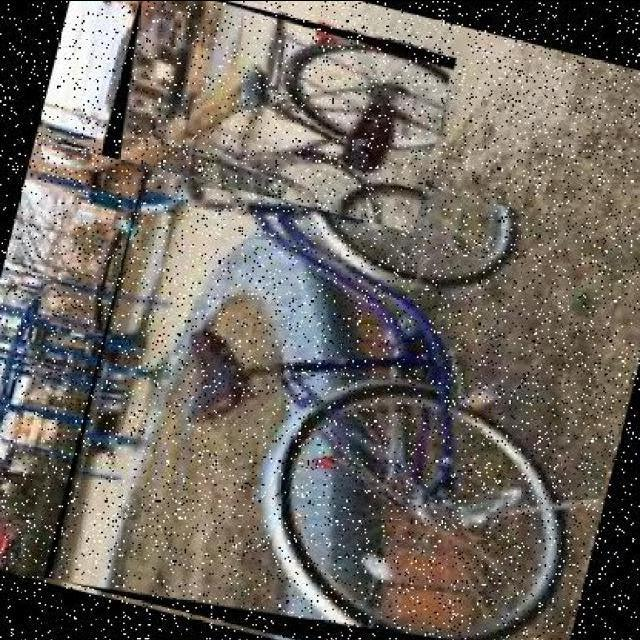bicycle: (44, 119, 640, 640), (101, 3, 459, 235)
